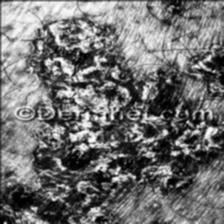Non-Cancerous Skin Condition: (0, 8, 224, 224)
